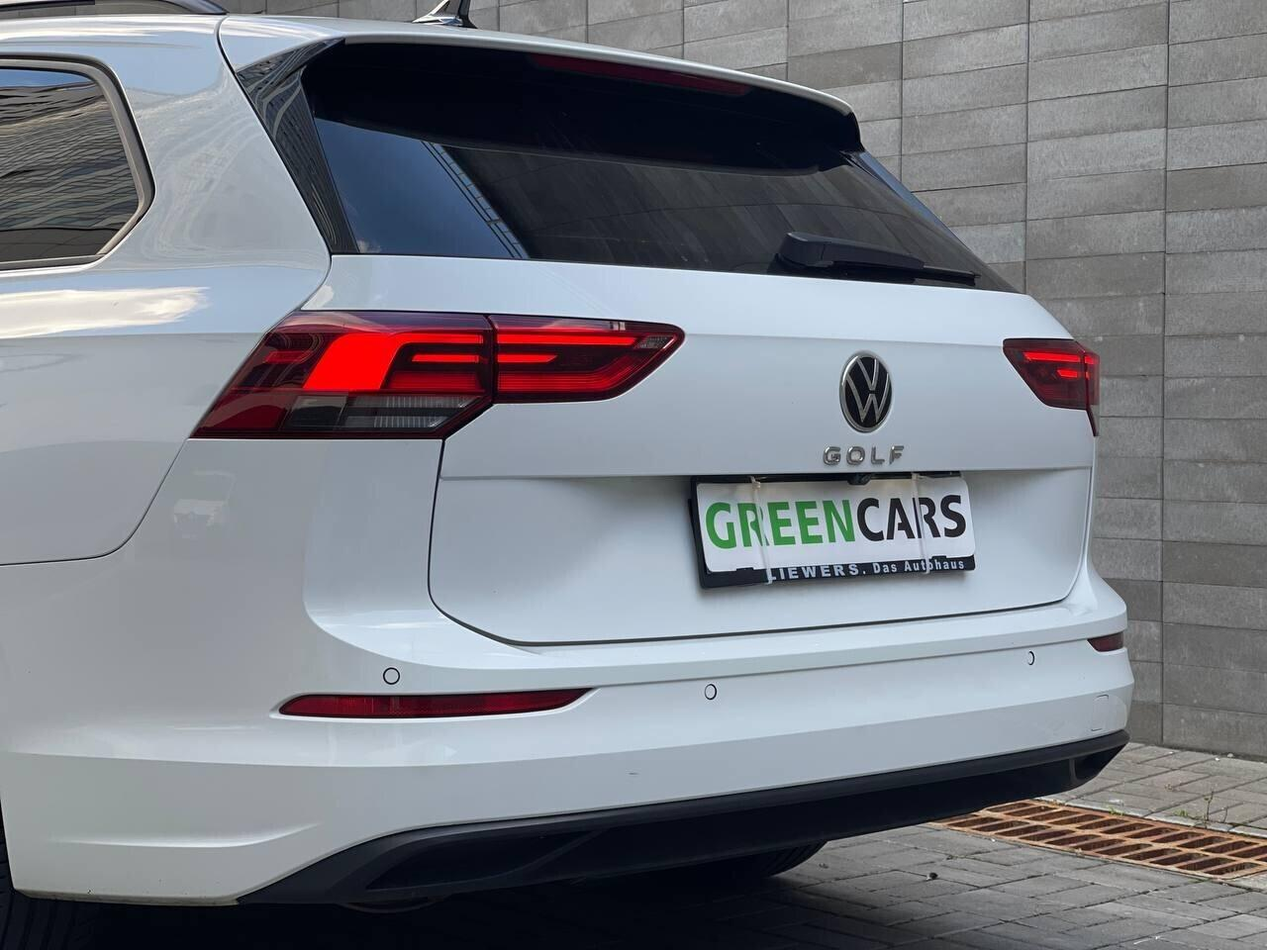Golf_2019: (0, 12, 1136, 935)
